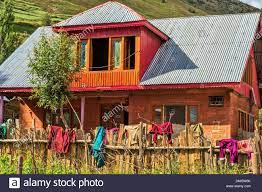Tin-shade House: (6, 4, 258, 132)
